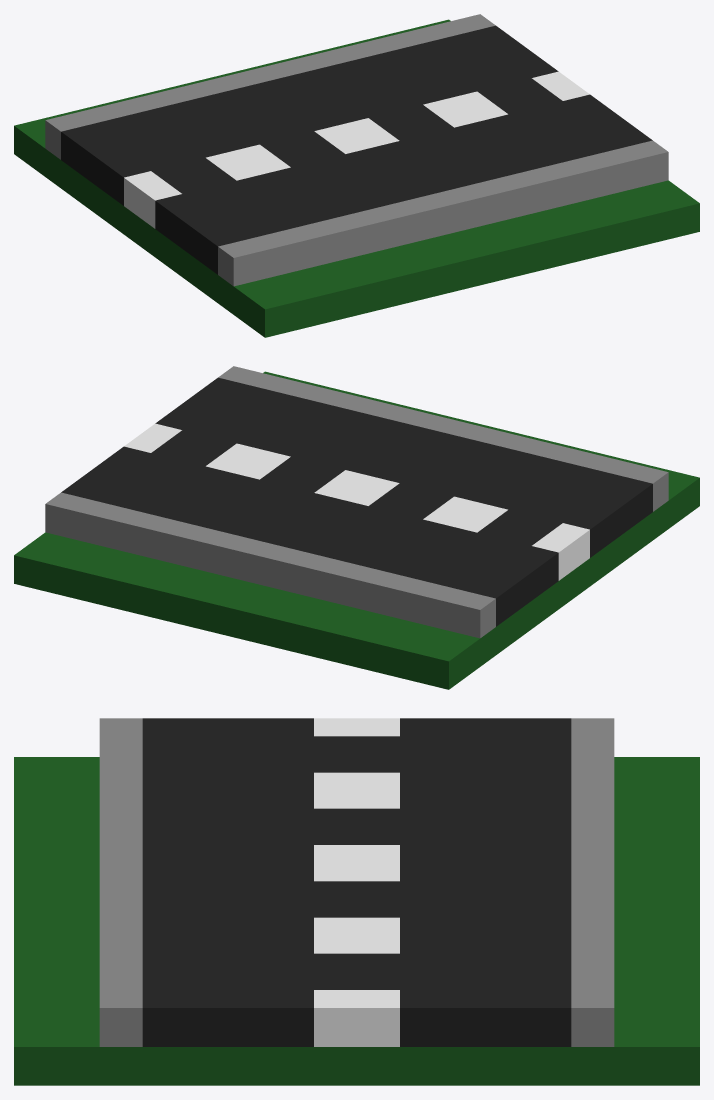
File: road_straight.obj
3 renders of one model, top to bottom at view 1: azimuth 30°, elevation 25°; view 2: azimuth 150°, elevation 25°; view 3: azimuth 270°, elevation 25°, orthographic. The views are drawn at different scales.
Bounding box in the file's own units: 1.6 × 0.2 × 1.6.
1 material, 1 textured.
